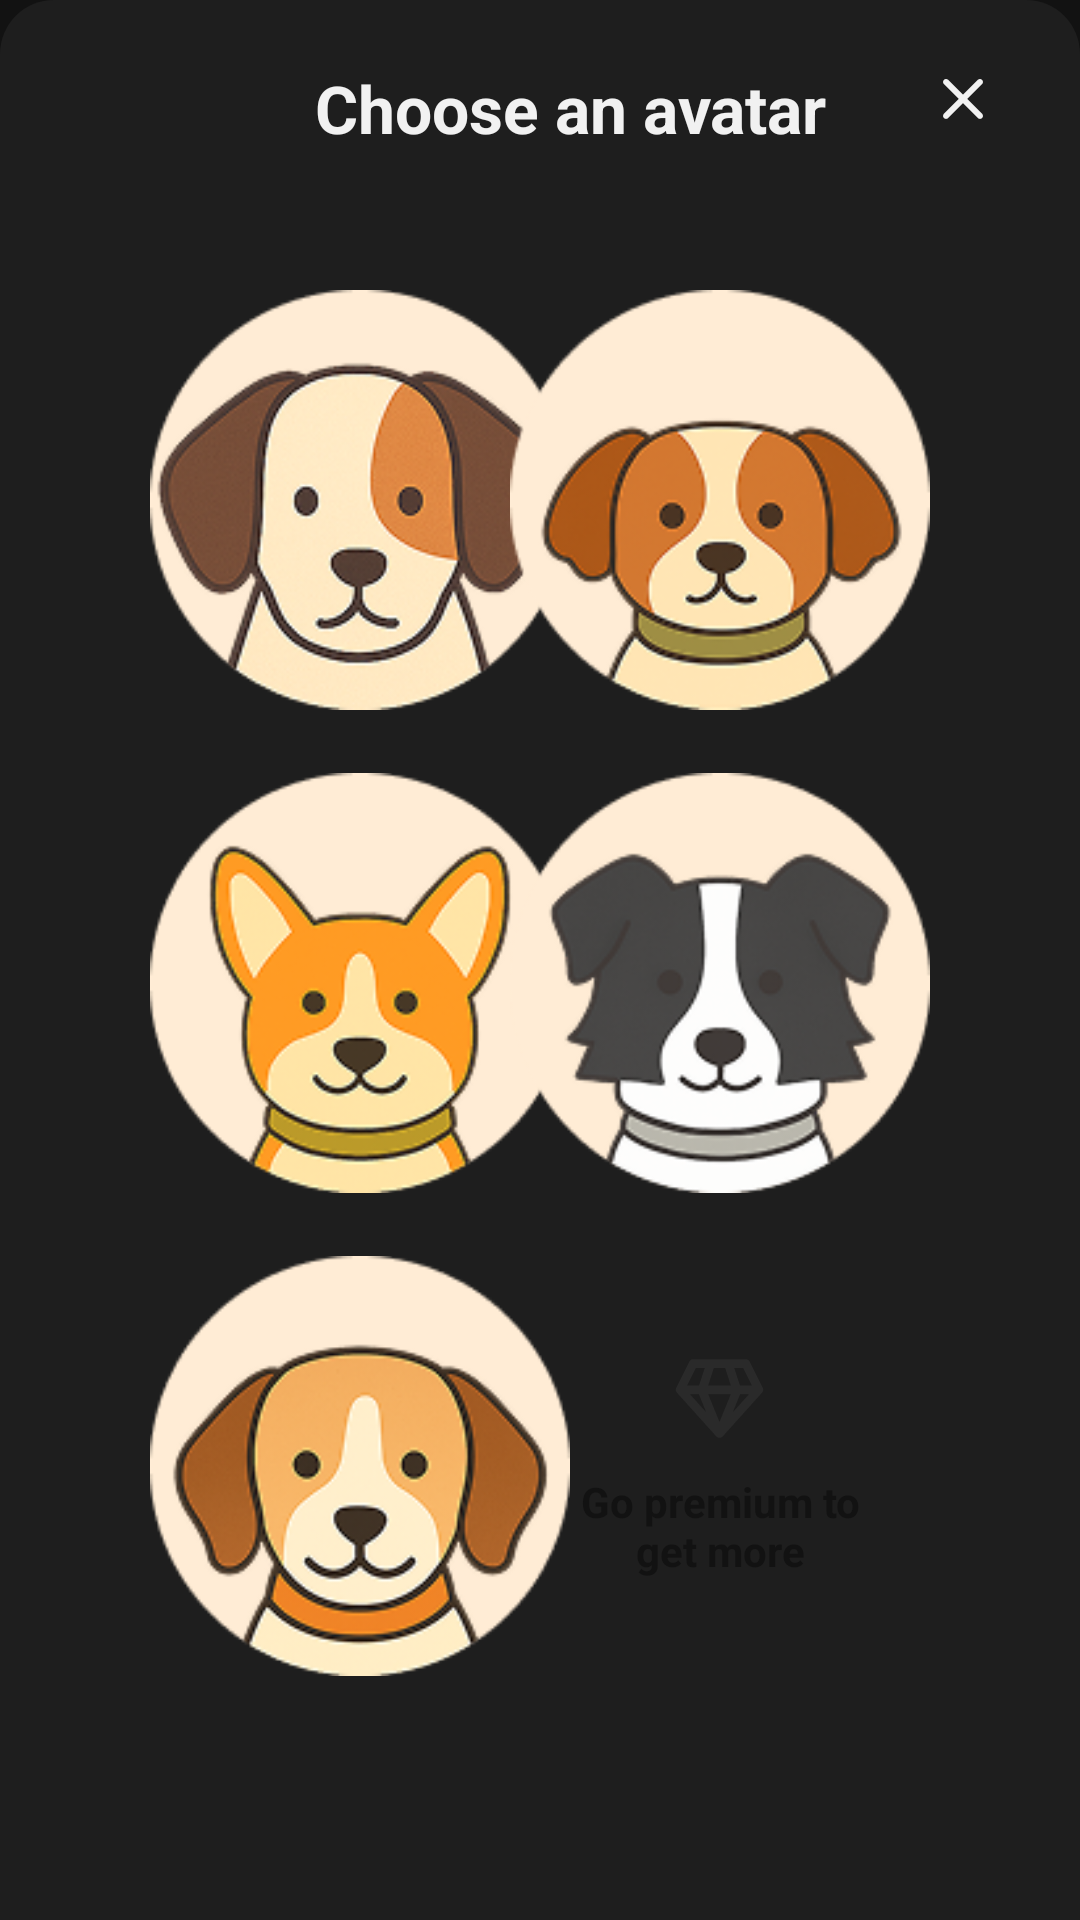

Named icons in this screenshot (1080 x 1920) and their bounding boxes, (x1, y1, x2, y2):
Button close options window: (943, 79, 983, 119)
